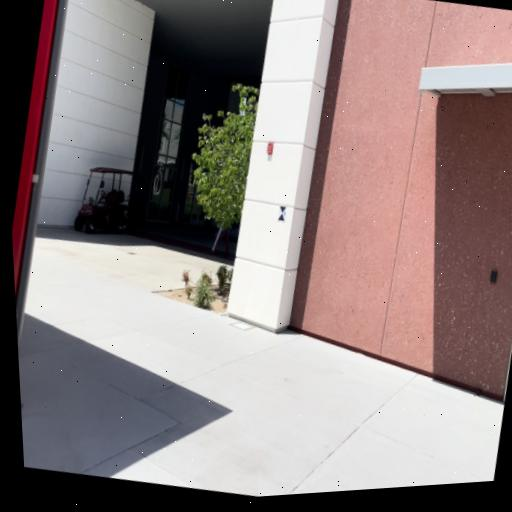target9: (278, 205, 287, 222)
